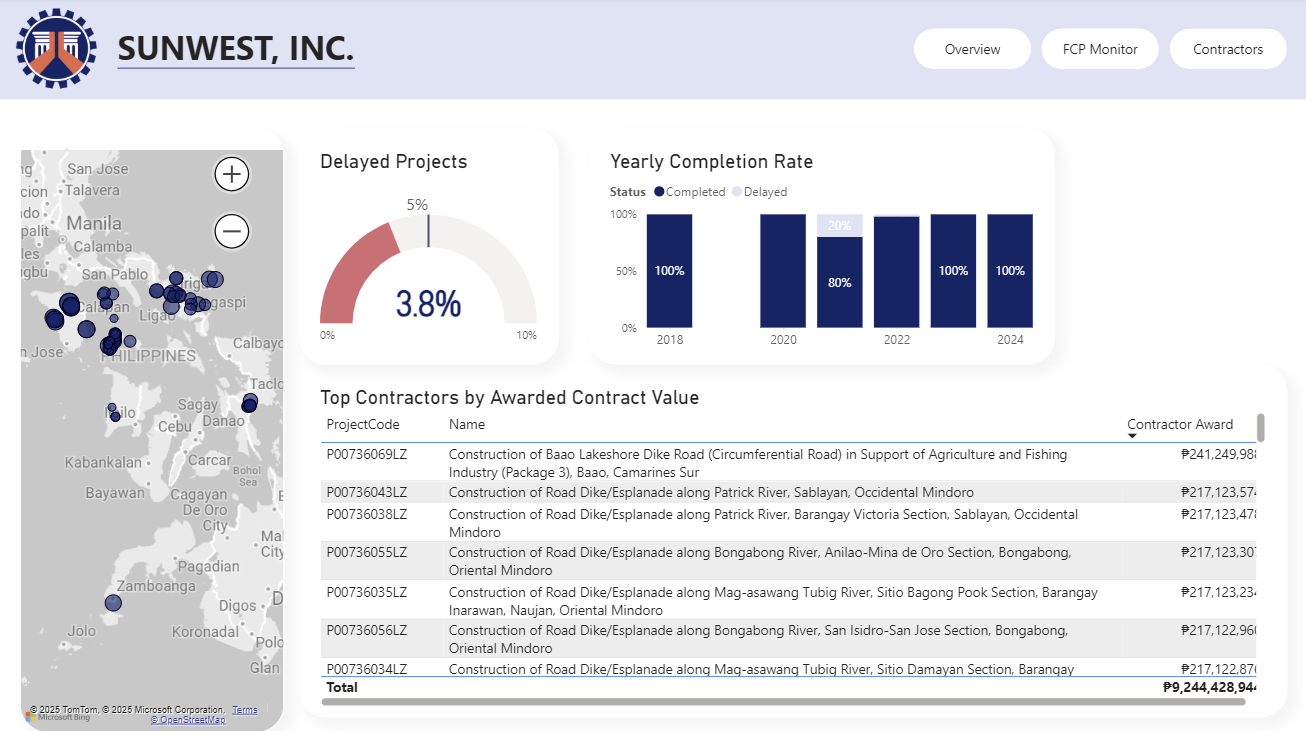

This screenshot's page, from the dashboard's own definition file:
{"tool":"powerbi","page":{"name":"DD - Contractor","canvas":[1280,720],"ordinal":3},"visuals":[{"type":"group","id":"g1","title":"Header","box":[0,0,1280,100],"z":0},{"type":"shape","box":[0,0,1280,100],"z":0,"group":"g1"},{"type":"tableEx","title":"Top Contractors by Awarded Contract Value","fields":{"Values":["F_Projects.ProjectCode","F_Projects.Name","M_Table.Contractor Award"]},"box":[292.9,360,967.1,345.7],"z":2},{"type":"map","fields":{"Size":["Sum(F_Projects.Cost)"],"Y":["F_Projects.Latitude"],"X":["F_Projects.Longitude"]},"box":[20,128.6,258.6,591.4],"z":5},{"type":"hundredPercentStackedColumnChart","title":"Yearly Completion Rate","fields":{"Category":["Date Table.Date Hierarchy.Year"],"Y":["M_Table.Contractor Award"],"Series":["F_Projects.Status"]},"box":[575.7,128.6,455.7,231.4],"z":6},{"type":"gauge","title":"Delayed Projects","fields":{"Y":["M_Table.% On-Time Rate"]},"box":[292.9,128.6,254.3,231.4],"z":7},{"type":"image","box":[0,0,110,100],"z":1000,"group":"g1"},{"type":"textbox","box":[110,21.4,685.7,55.7],"z":2000,"group":"g1"},{"type":"pageNavigator","box":[893.3,30,366.7,40],"z":16000,"group":"g1"}]}

Visuals, with their boxes in screenshot pixels (x1, y1, x2, y2), scaled from the page's 1280x720 canvas onto the 1306x731 screenshot:
"Header" group: select_region(0, 0, 1305, 102)
shape: select_region(0, 0, 1305, 102)
"Top Contractors by Awarded Contract Value" tableEx: select_region(299, 366, 1286, 716)
map - Sum(F_Projects.Cost) x F_Projects.Latitude: select_region(20, 131, 284, 730)
"Yearly Completion Rate" hundredPercentStackedColumnChart: select_region(587, 131, 1052, 366)
"Delayed Projects" gauge: select_region(299, 131, 558, 366)
image: select_region(0, 0, 112, 102)
textbox: select_region(112, 22, 812, 78)
pageNavigator: select_region(911, 30, 1286, 71)
